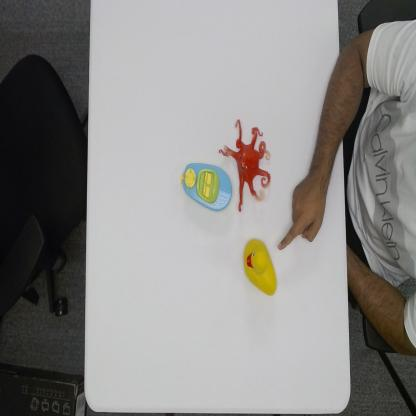Arm: (321, 33, 362, 167)
Boat: (179, 161, 233, 212)
Duck: (242, 235, 278, 298)
Hand: (278, 169, 328, 252)
Octopus: (218, 116, 272, 212)
